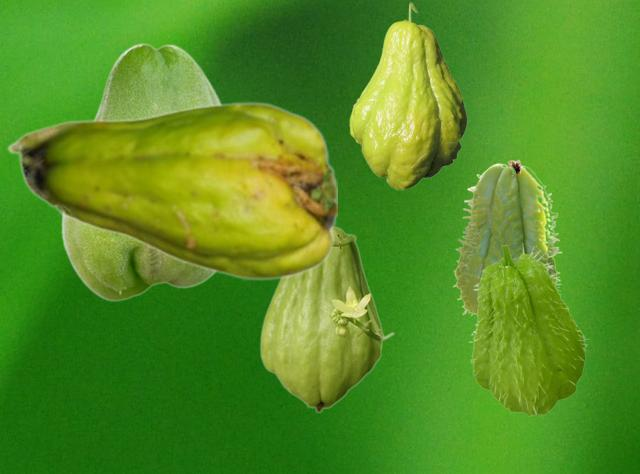sayote: (6, 101, 336, 280), (60, 42, 221, 300), (259, 226, 394, 412), (349, 2, 466, 189), (468, 242, 588, 415), (452, 159, 561, 317)
